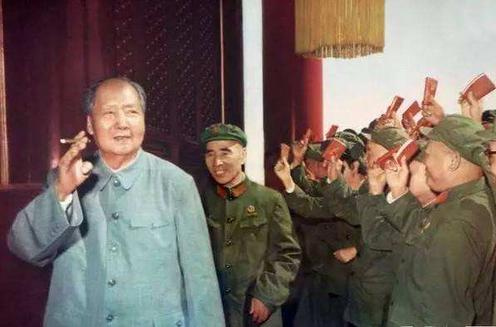smoking: (58, 134, 97, 148)
